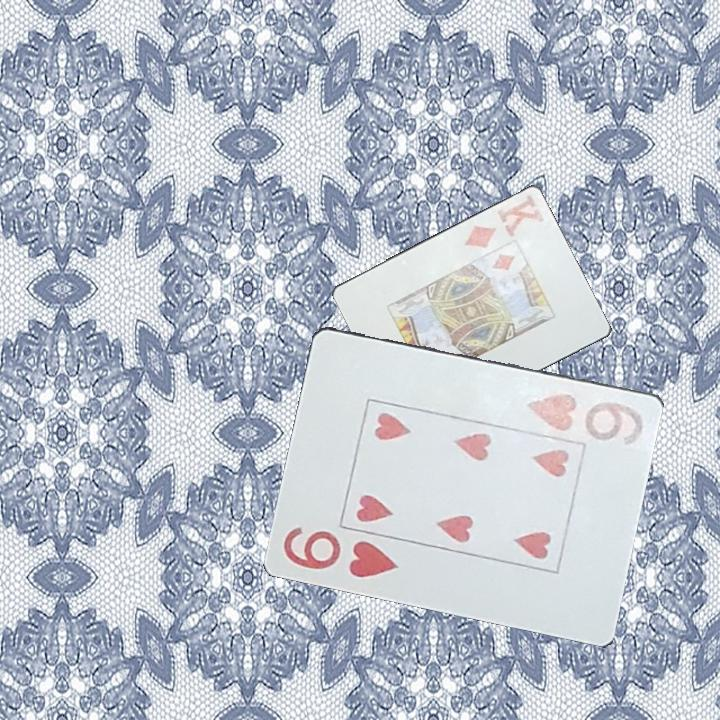6h: (523, 386, 648, 450), (280, 522, 402, 581)
Kd: (461, 190, 547, 252)
